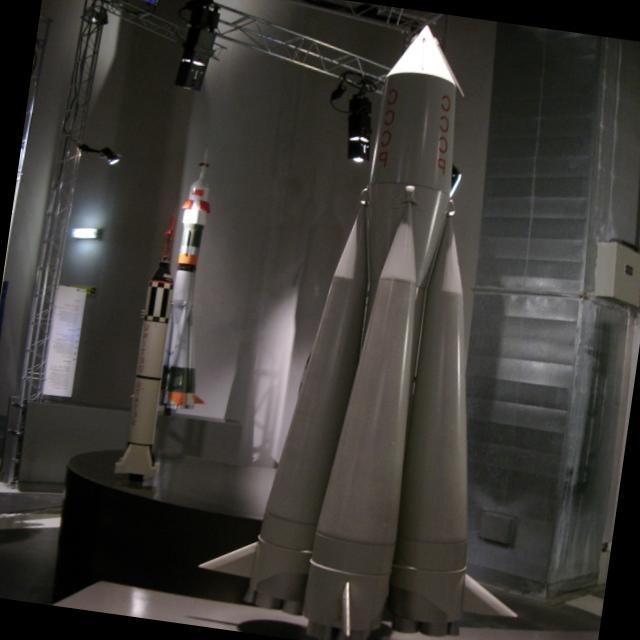rocket: (196, 14, 595, 640)
